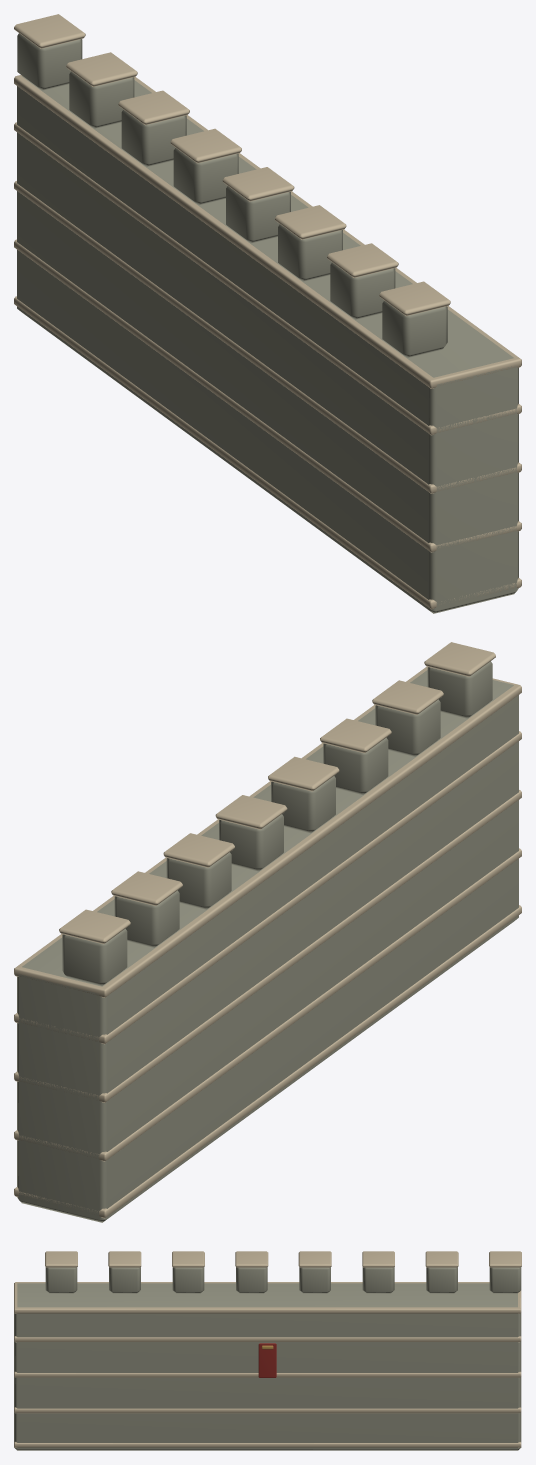
Rendered from architecture-rampartV.glb.
3 views of the same model, one above another, from view 1: azimuth 30°, elevation 25°; view 2: azimuth 150°, elevation 25°; view 3: azimuth 270°, elevation 25° (orthographic). The views are drawn at different scales.
Parts seen in each view (by area): view 1: architecture-rampartV-exterior; view 2: architecture-rampartV-exterior; view 3: architecture-rampartV-exterior.
Part boxes in pixels (x1,y1,x2,y2): architecture-rampartV-exterior: [14, 14, 521, 613]; architecture-rampartV-exterior: [14, 642, 521, 1222]; architecture-rampartV-exterior: [14, 1251, 521, 1450].
Bounding box in the file's own units: 1.06 × 3.04 × 8.01.
